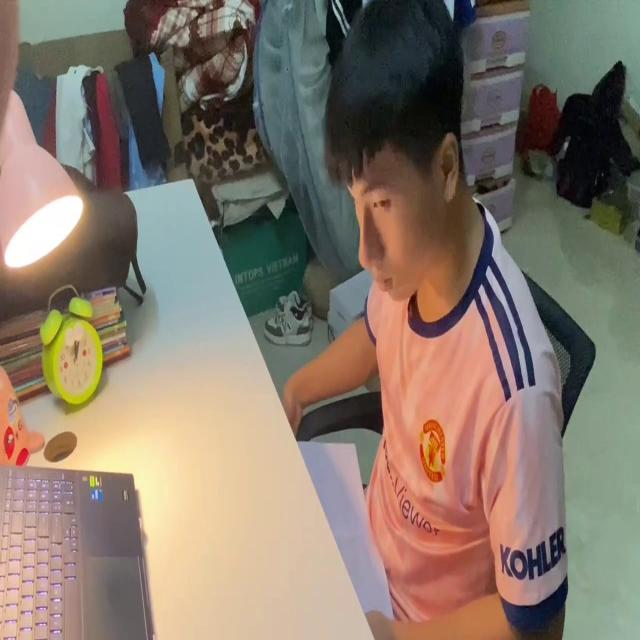book: (296, 432, 395, 624)
laptop: (0, 455, 156, 640)
student: (283, 0, 571, 640)
